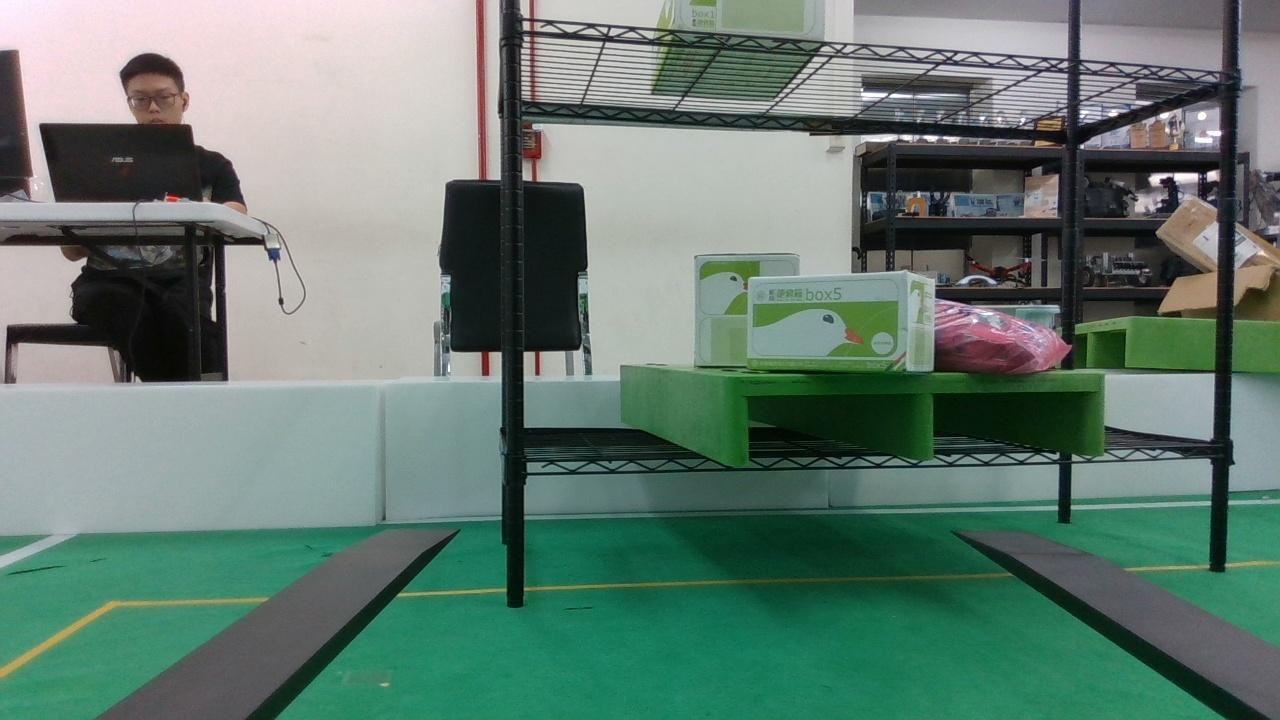Pallet: (724, 372, 1106, 468)
